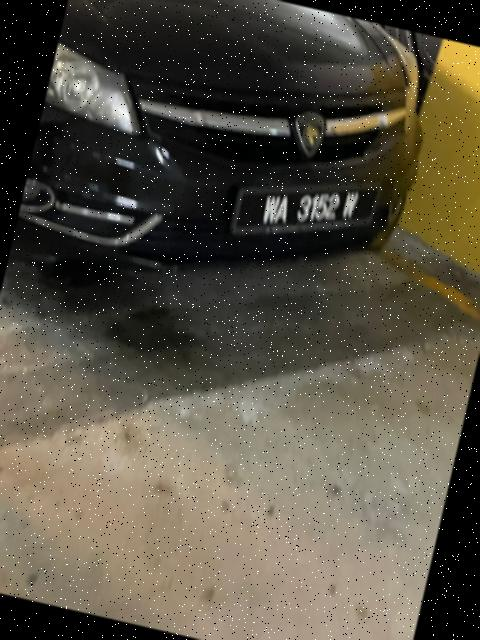License_Plate: (248, 159, 373, 257)
car: (12, 1, 470, 338)
